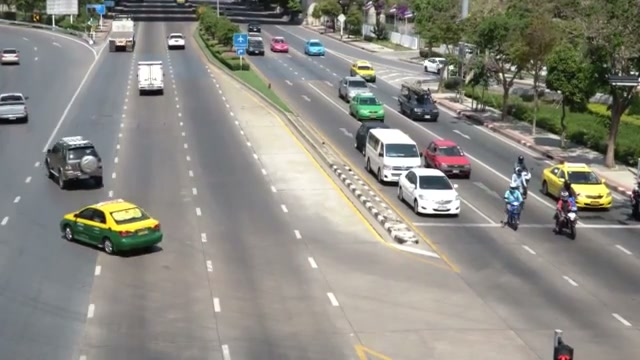car: (59, 198, 163, 255), (541, 162, 614, 210), (43, 135, 104, 190), (397, 167, 461, 217), (421, 138, 471, 179), (397, 84, 440, 122), (354, 121, 388, 155), (348, 92, 385, 122), (0, 92, 29, 123), (337, 75, 369, 103), (350, 60, 377, 83), (423, 58, 447, 74), (304, 39, 326, 56), (247, 36, 265, 56), (0, 48, 20, 65), (167, 32, 186, 49), (270, 37, 289, 53)
motorcycle: (552, 202, 578, 240), (503, 195, 524, 230)
pedestrian: (555, 180, 578, 230), (503, 184, 524, 225)
truck: (541, 161, 614, 210), (364, 127, 424, 185), (397, 82, 439, 122), (137, 59, 165, 95), (108, 19, 135, 52)
